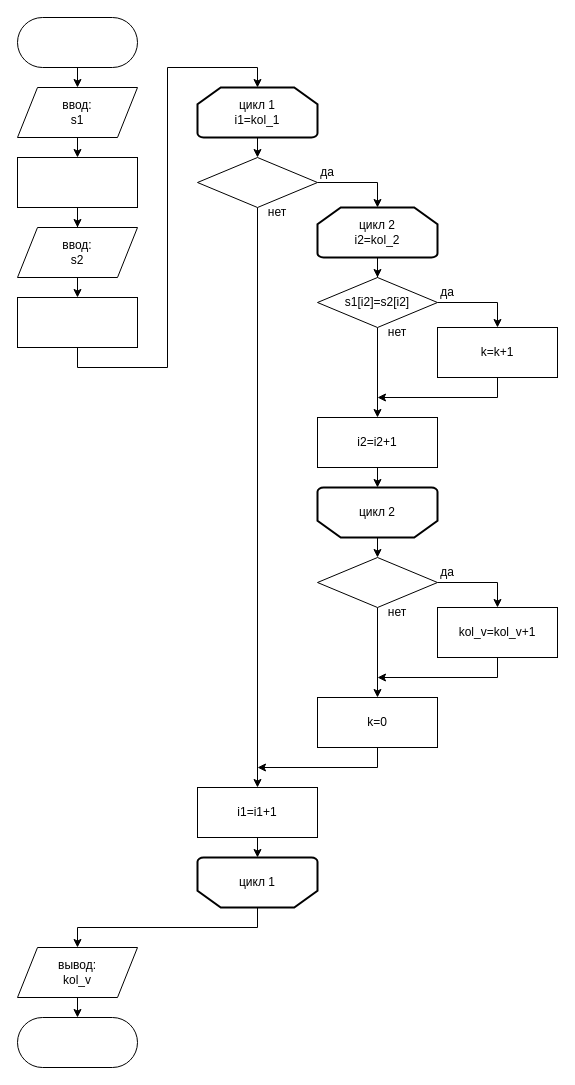
This 575x1085 diagram has some shape labels left out. Here are the shapes that lost their labels. From the top down, the centre of each, then its label:
the point at 77,42: начало
the point at 77,182: kol_1 = длина строки s1
the point at 257,182: s1[i1]=s2[1]
the point at 77,322: kol_2 = длина строки s2 i2=1
the point at 377,582: k=kol_2
the point at 77,1042: конец
